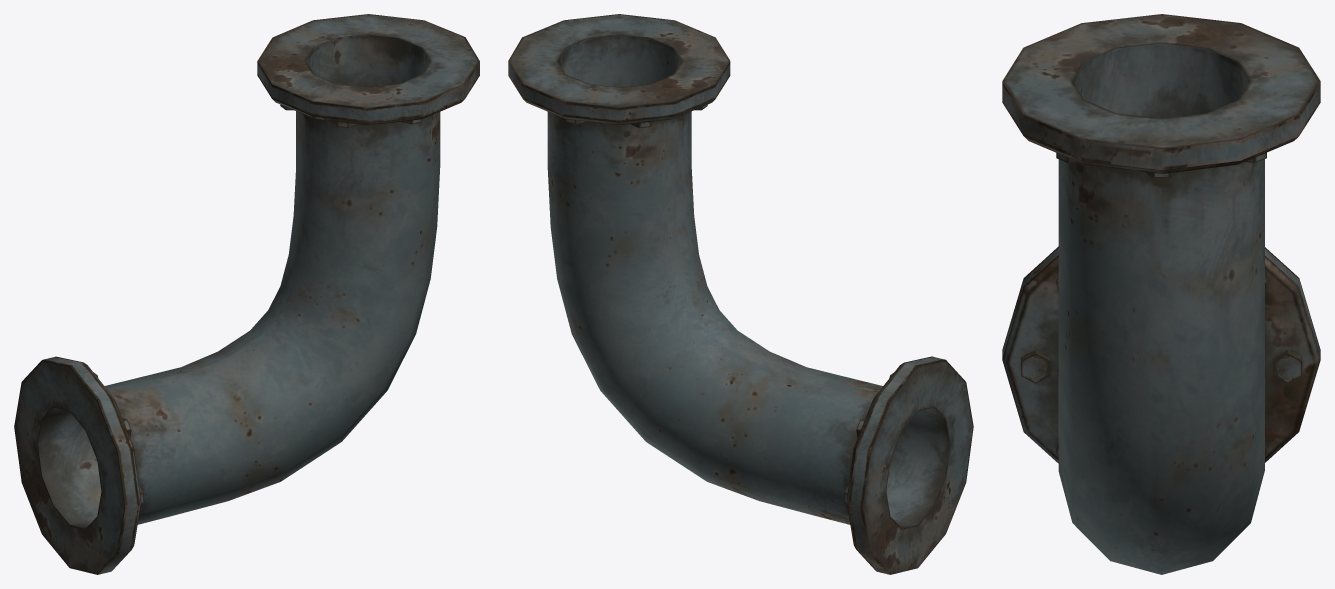
Rendered from pipe_valve.glb.
3 renders of one model, left to right at view 1: azimuth 30°, elevation 25°; view 2: azimuth 150°, elevation 25°; view 3: azimuth 270°, elevation 25°, orthographic. The views are drawn at different scales.
Visible parts, largest first — view 1: pipe_valve; view 2: pipe_valve; view 3: pipe_valve.
Boxes of the visible parts, x1,y1,x2,y2 form: pipe_valve: (14, 14, 479, 574); pipe_valve: (508, 14, 973, 574); pipe_valve: (1002, 14, 1320, 574).
Size of the model in its own units: 0.4241 by 0.4446 by 0.2063.
Materials: 1 (1 with a texture image).
